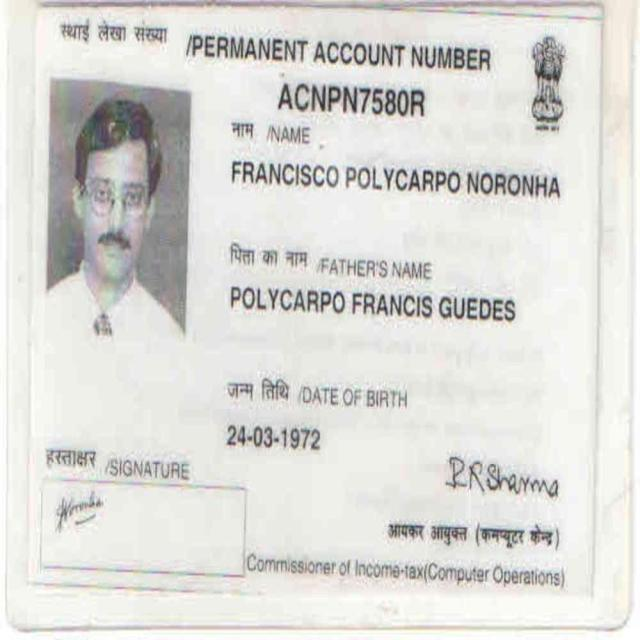pan_card: (26, 10, 606, 599)
